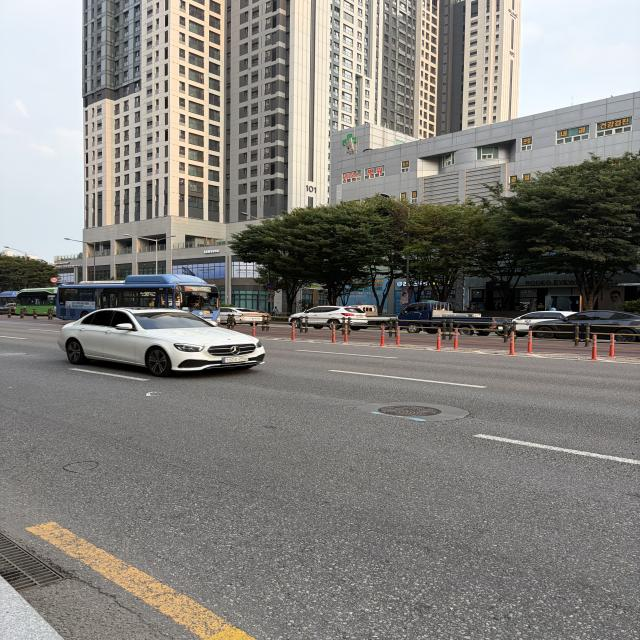car: (50, 295, 288, 390), (386, 296, 519, 344), (280, 295, 376, 339)
